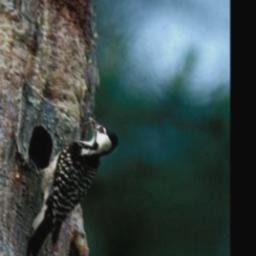Woodpecker: (28, 114, 120, 256)
